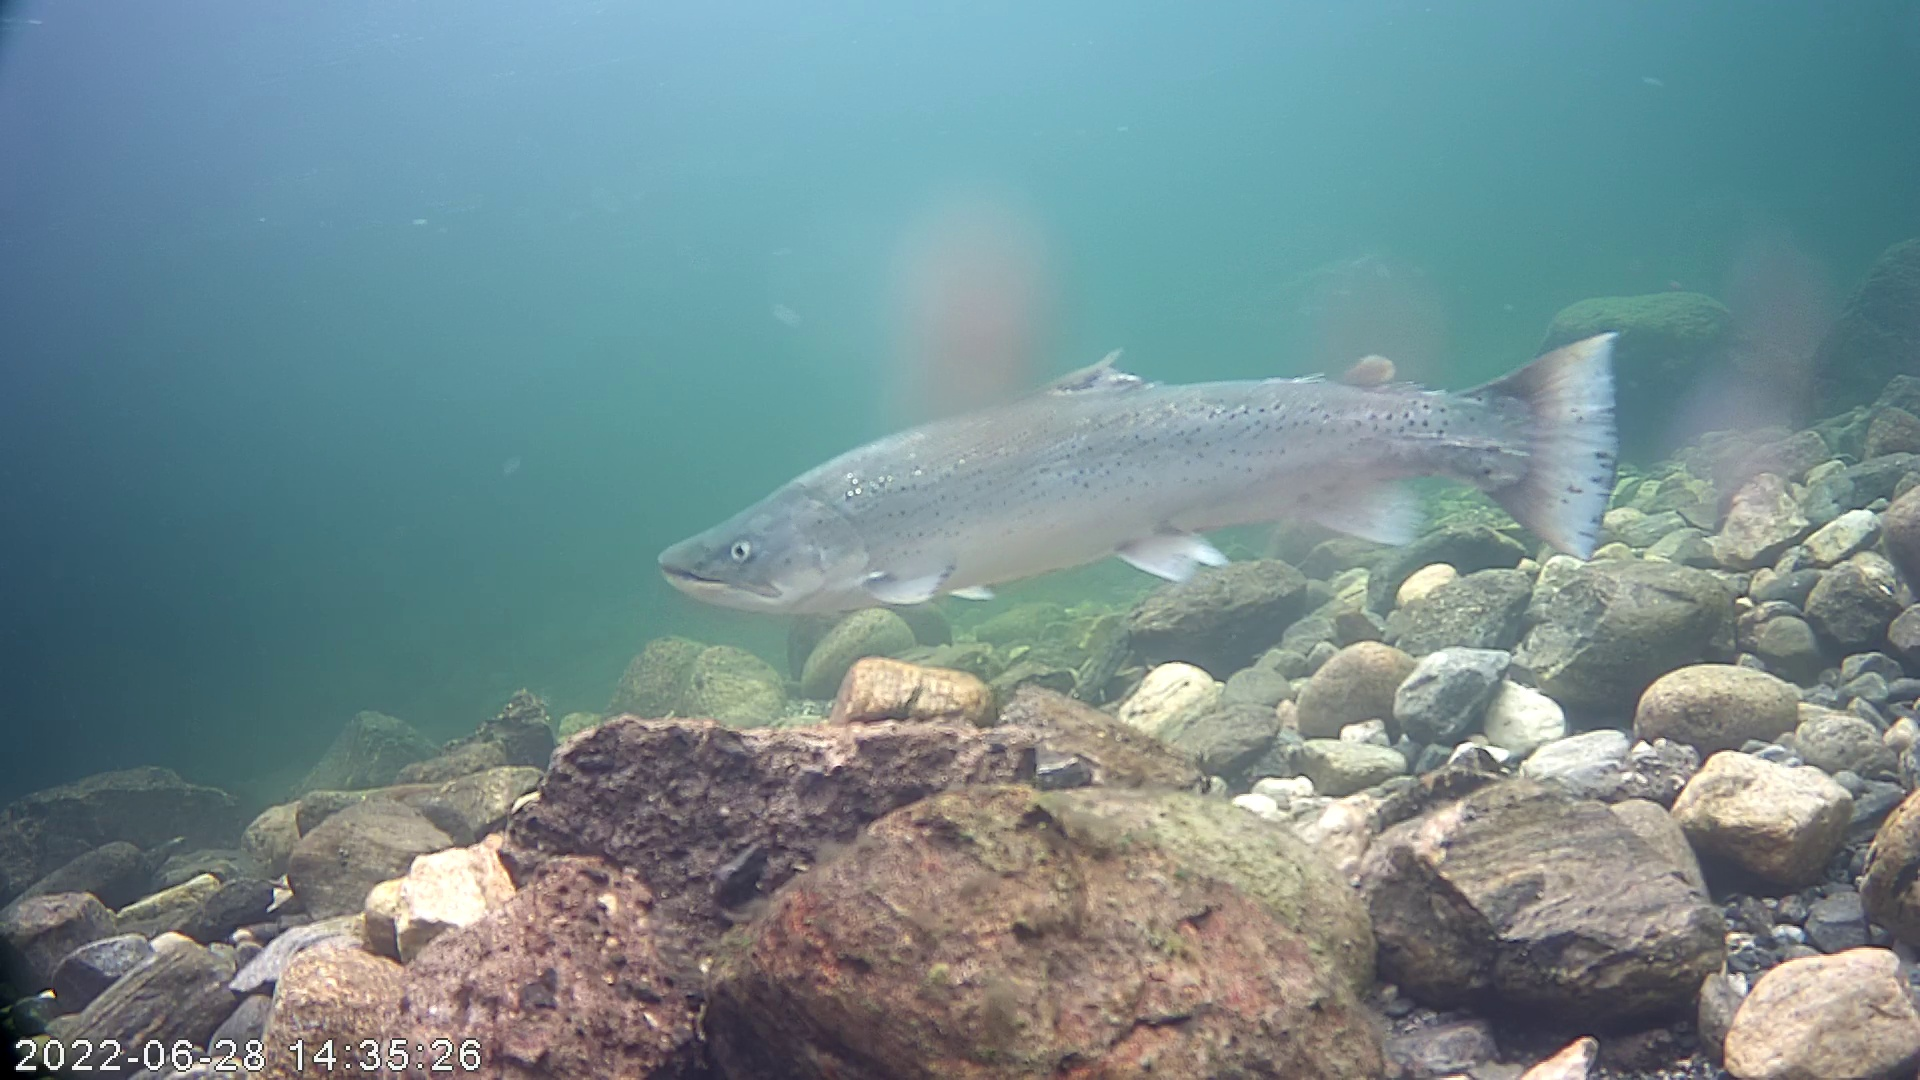salmon: (661, 215, 1660, 651)
